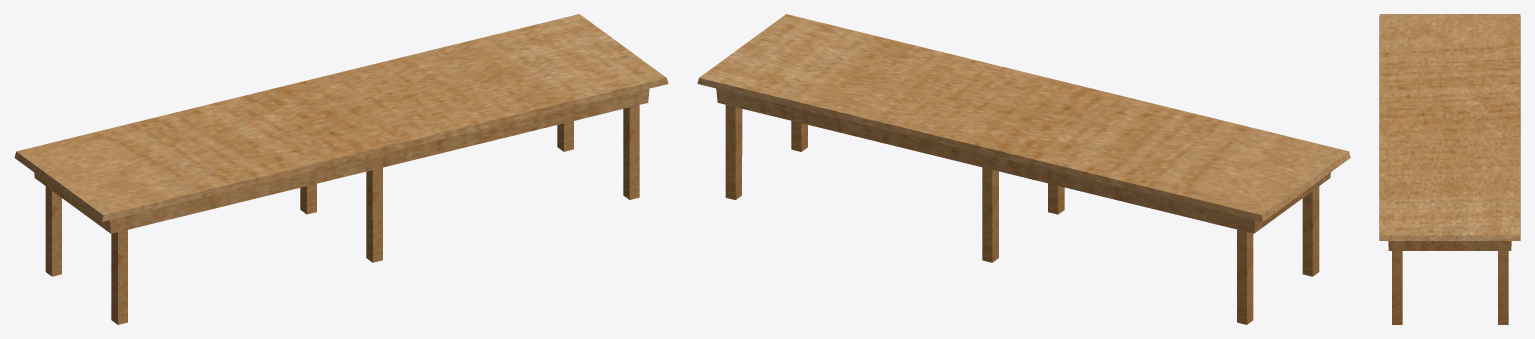
Rendered from TableLong_vi.fbx.
3 views of the same model, side by side, from view 1: azimuth 30°, elevation 25°; view 2: azimuth 150°, elevation 25°; view 3: azimuth 270°, elevation 25° (orthographic). The views are drawn at different scales.
Parts seen in each view (by area): view 1: TableLong; view 2: TableLong; view 3: TableLong.
Part boxes in pixels (x1,y1,x2,y2): TableLong: (14,14,668,324); TableLong: (697,14,1350,324); TableLong: (1379,14,1520,324).
Size of the model in its own units: 0.0523 by 0.0106 by 0.014.
Materials: 1 (1 with a texture image).
